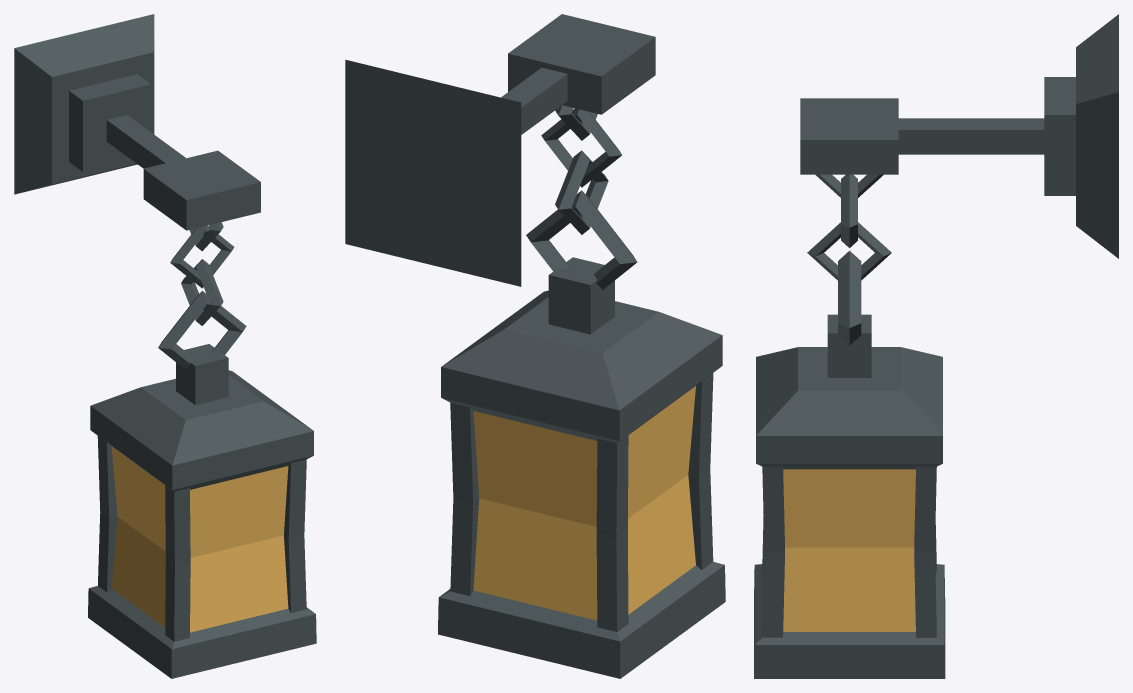
File: Lantern_01.fbx
3 renders of one model, left to right at view 1: azimuth 30°, elevation 25°; view 2: azimuth 150°, elevation 25°; view 3: azimuth 270°, elevation 25°, orthographic. The views are drawn at different scales.
Visible parts, largest first — view 1: Lantern_01; view 2: Lantern_01; view 3: Lantern_01.
Part boxes in pixels (left/top/right/bottom): Lantern_01: left=14, top=14, right=316, bottom=678; Lantern_01: left=345, top=14, right=725, bottom=678; Lantern_01: left=754, top=14, right=1118, bottom=678.
Size of the model in its own units: 14.58 by 49.28 by 27.84.
